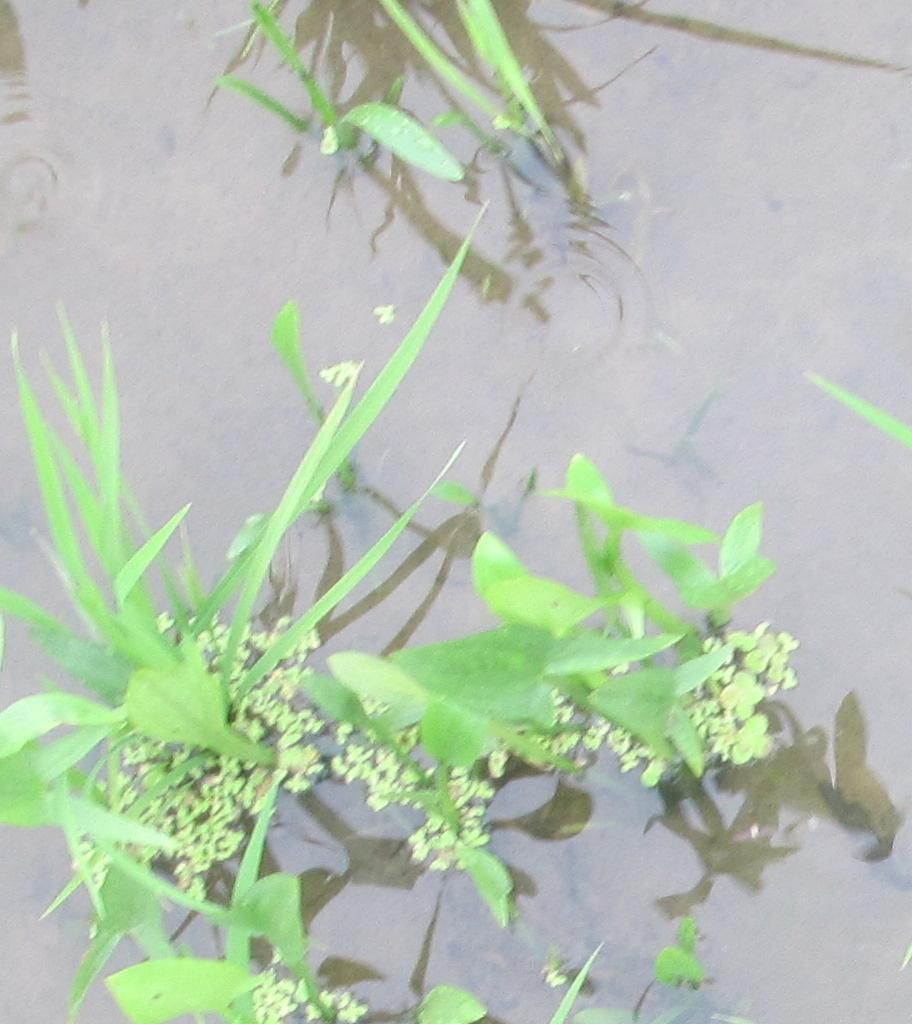Weed: (327, 602, 800, 803), (99, 871, 371, 1017)
